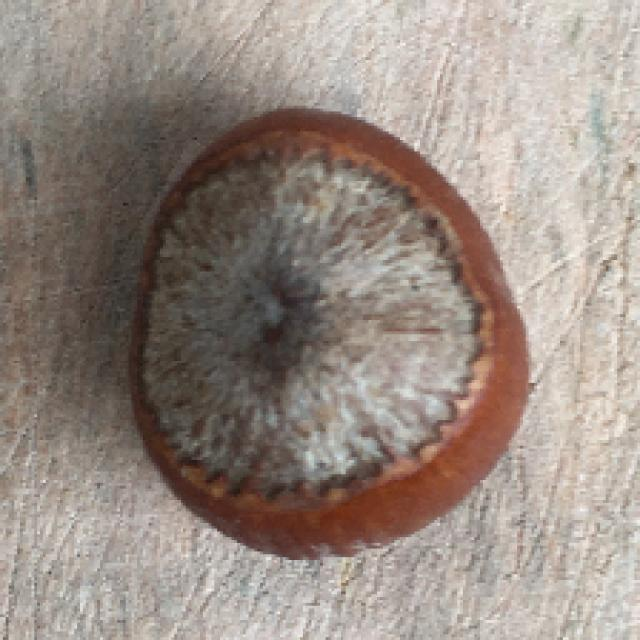QualityHazelnut: (125, 109, 536, 559)
